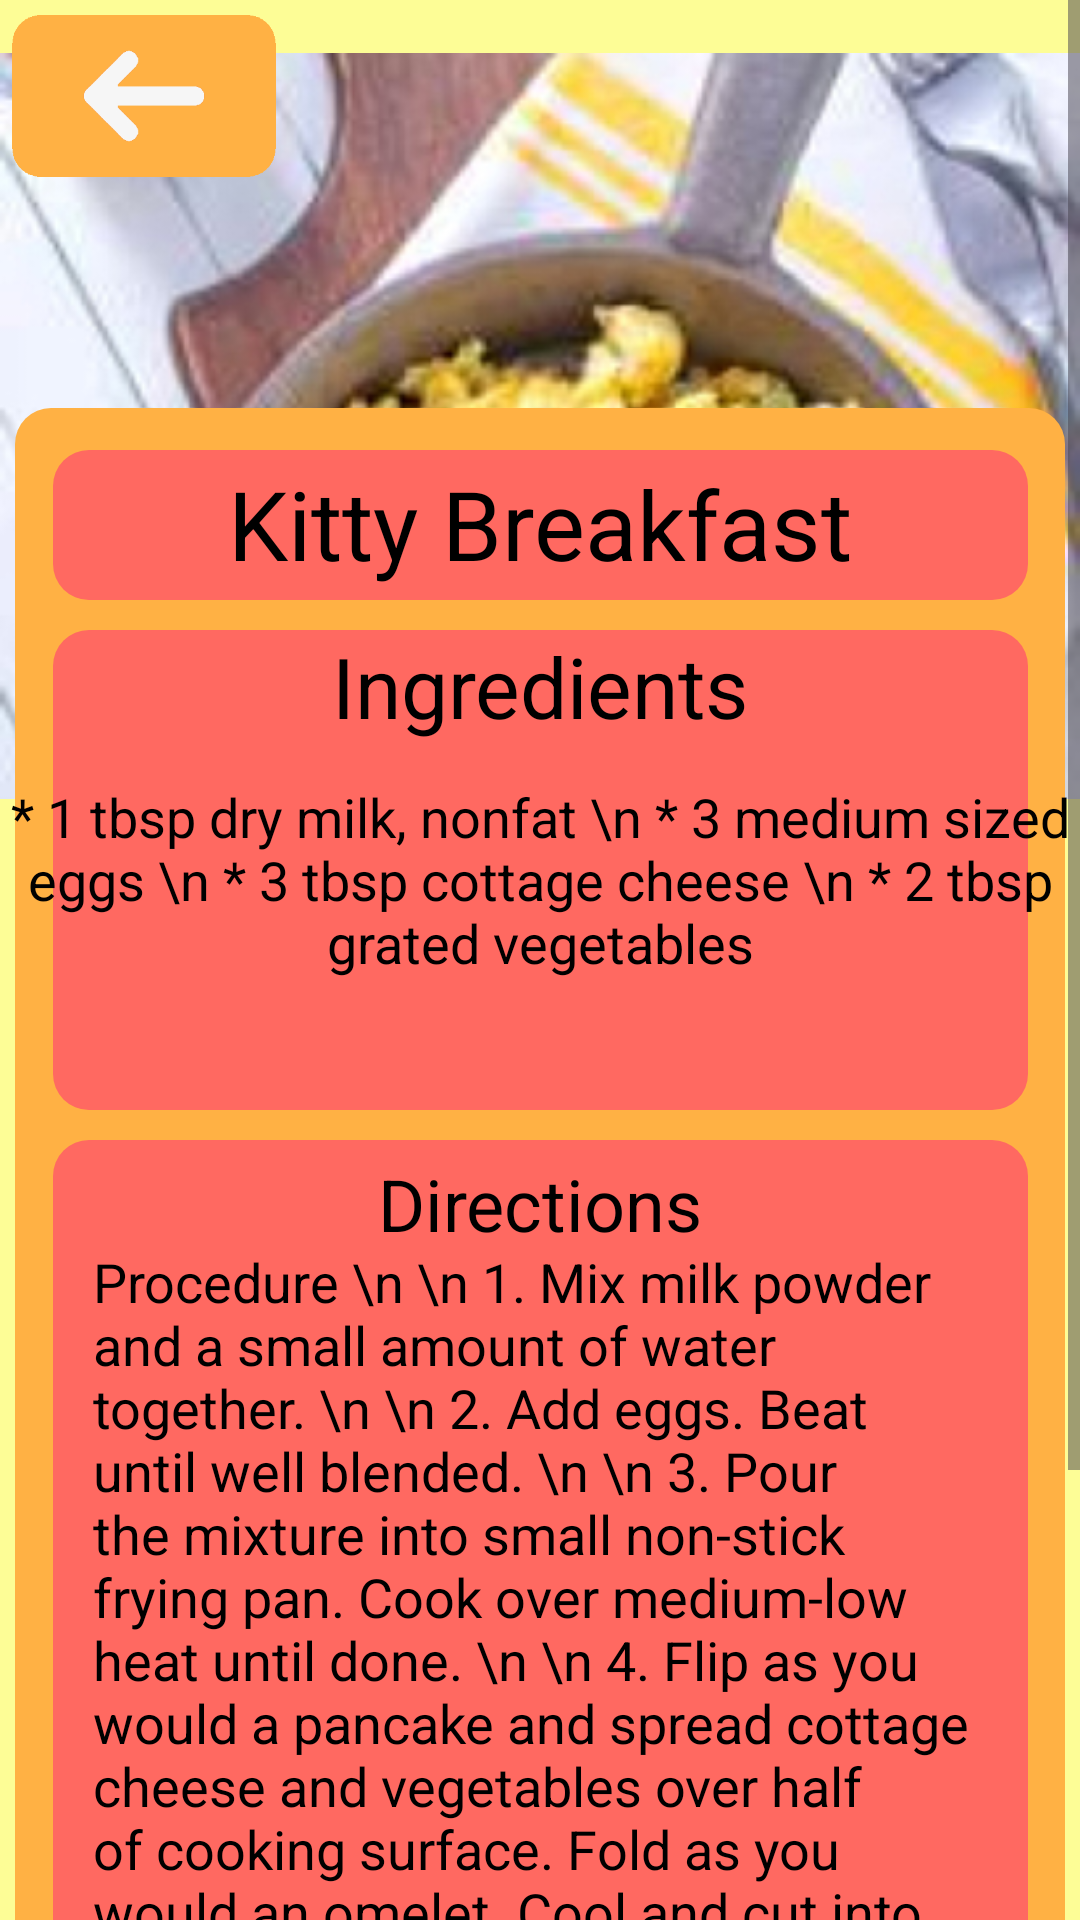

Where to tap for icons on this 1080px×1920px app screen, as [x,y]:
backred: [144,96]
